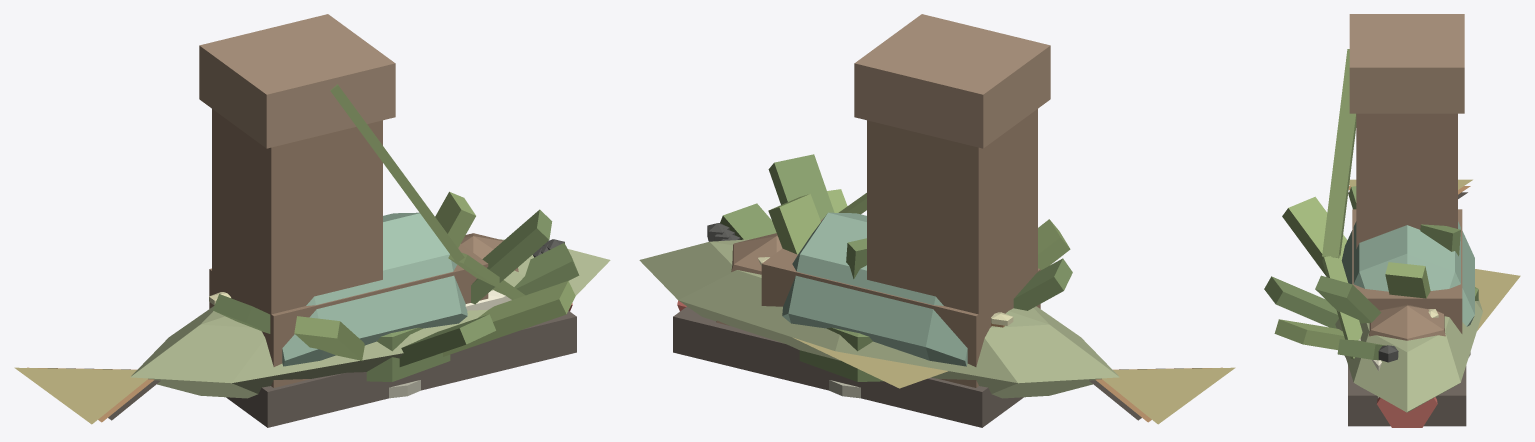
Rendered from items.glb.
3 renders of one model, left to right at view 1: azimuth 30°, elevation 25°; view 2: azimuth 150°, elevation 25°; view 3: azimuth 270°, elevation 25°, orthographic. The views are drawn at different scales.
Visible parts, largest first — view 1: soggy_boot_Mesh, raw_reedpike_Mesh, pond_weed_Mesh, sealed_bottle_Mesh; view 2: soggy_boot_Mesh, raw_reedpike_Mesh, sealed_bottle_Mesh, pond_weed_Mesh, cooked_reedpike_Mesh; view 3: soggy_boot_Mesh, pond_weed_Mesh, raw_reedpike_Mesh, sealed_bottle_Mesh.
Boxes of the visible parts, x1,y1,x2,y2 form: soggy_boot_Mesh: (199, 14, 576, 427); raw_reedpike_Mesh: (14, 239, 610, 424); pond_weed_Mesh: (212, 191, 579, 381); sealed_bottle_Mesh: (282, 212, 572, 366); soggy_boot_Mesh: (673, 14, 1050, 427); raw_reedpike_Mesh: (639, 223, 1235, 424); sealed_bottle_Mesh: (677, 212, 967, 366); pond_weed_Mesh: (720, 154, 1072, 381); cooked_reedpike_Mesh: (714, 228, 1222, 422); soggy_boot_Mesh: (1322, 14, 1466, 426); pond_weed_Mesh: (1264, 186, 1478, 360); raw_reedpike_Mesh: (1335, 179, 1520, 412); sealed_bottle_Mesh: (1341, 221, 1474, 427).
Size of the model in its own units: 0.6496 by 0.37 by 0.3036.
